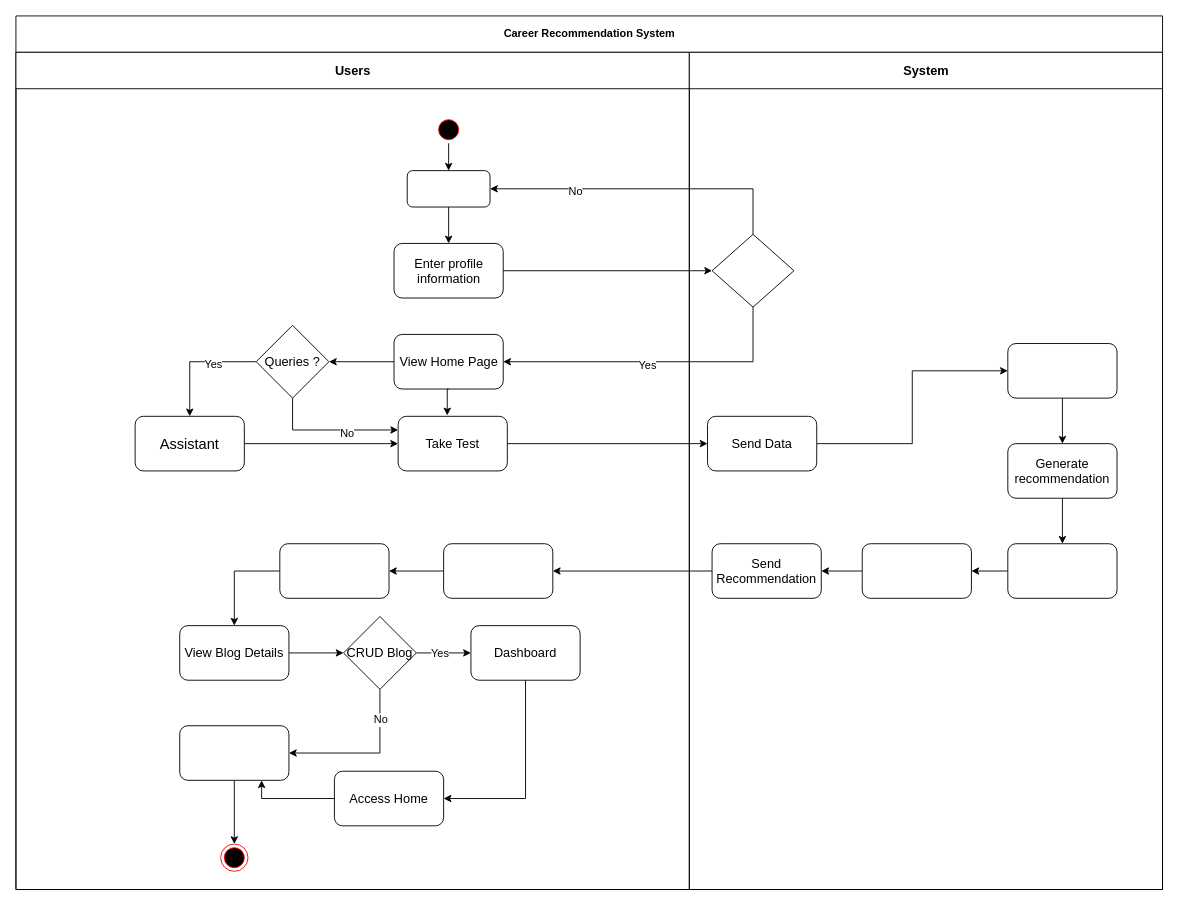
Some shapes in this 1178 by 905 pixel diagram are drawn without their labels. Each missing label, with the centre of its shape:
"Authenticate" goes at (752,270).
"Calculate probability" goes at (1062,570).
"Load Trained Machine Learning Algorithm" goes at (1062,370).
"Log Out" goes at (234,752).
"Login/Signup" goes at (448,188).
"Select Top 3 Recommendation" goes at (916,570).
"View Blog" goes at (334,570).
"View recommendation" goes at (498,570).
